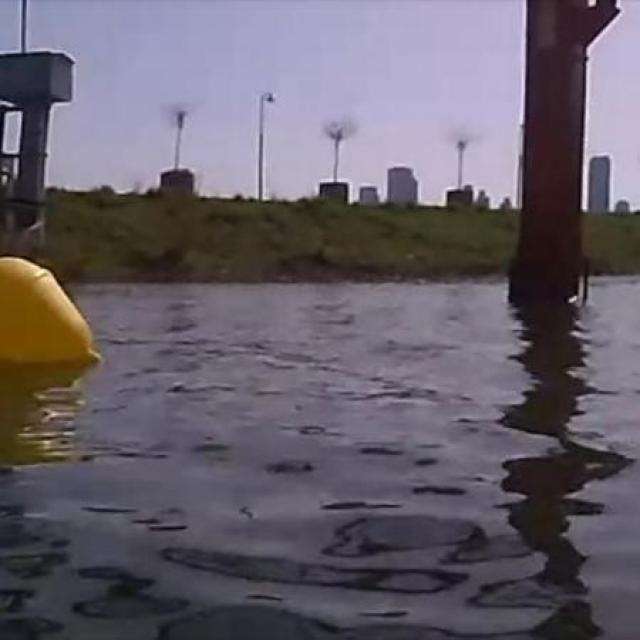buoy: (0, 247, 98, 370)
